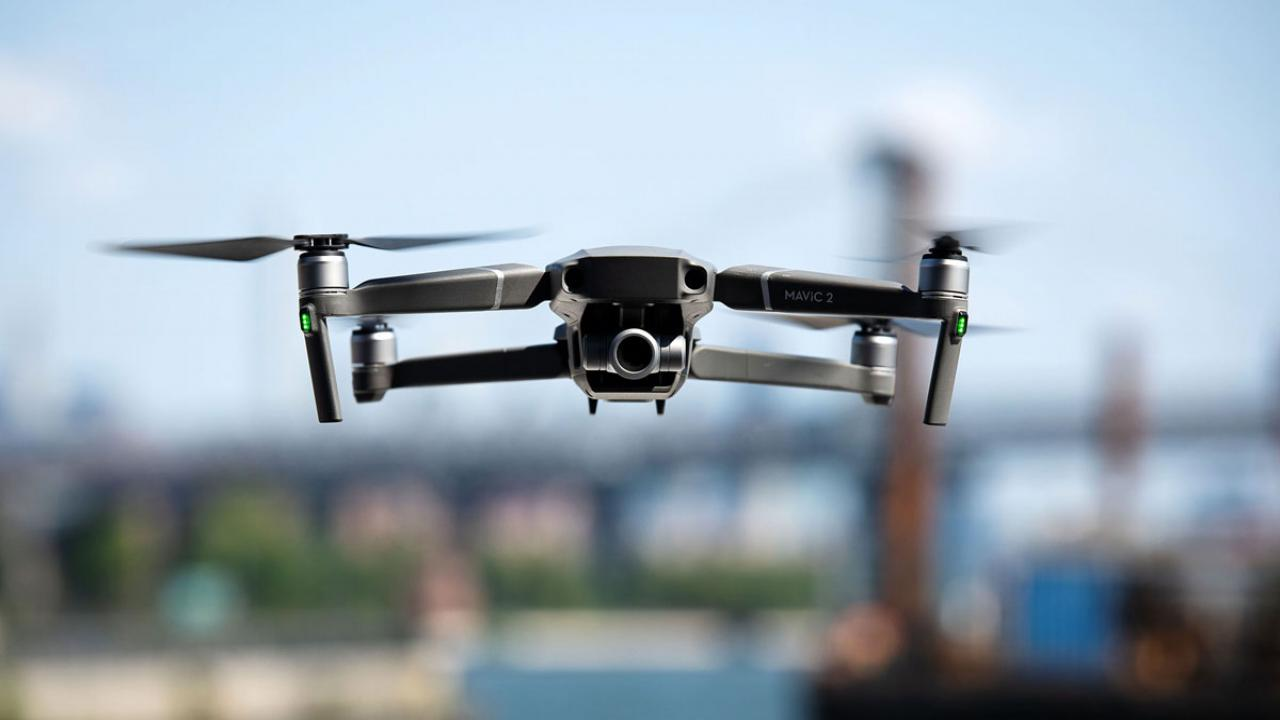Drone: (74, 169, 1075, 461)
